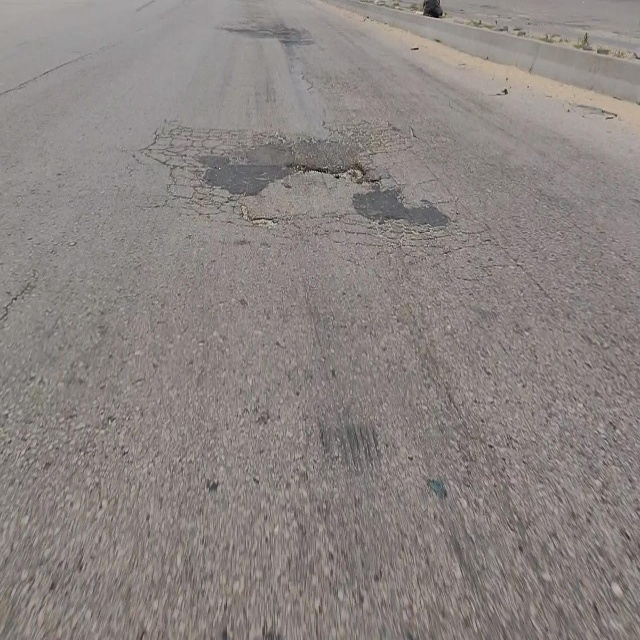pothole: (285, 161, 380, 187)
